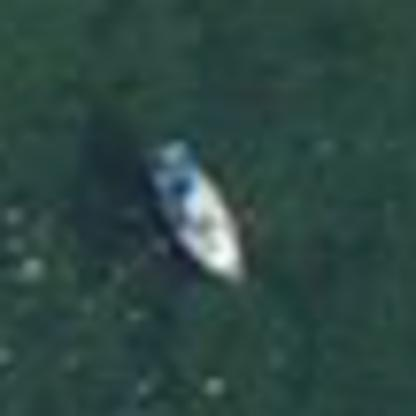ship: (124, 128, 276, 292)
